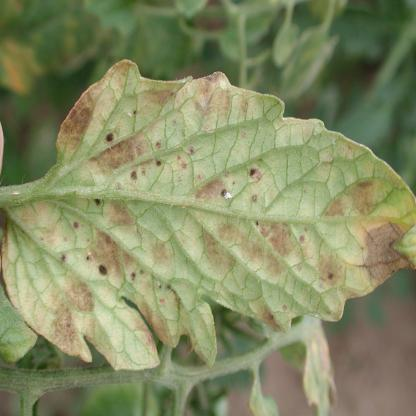tomato mold leaf: (3, 44, 416, 394)
